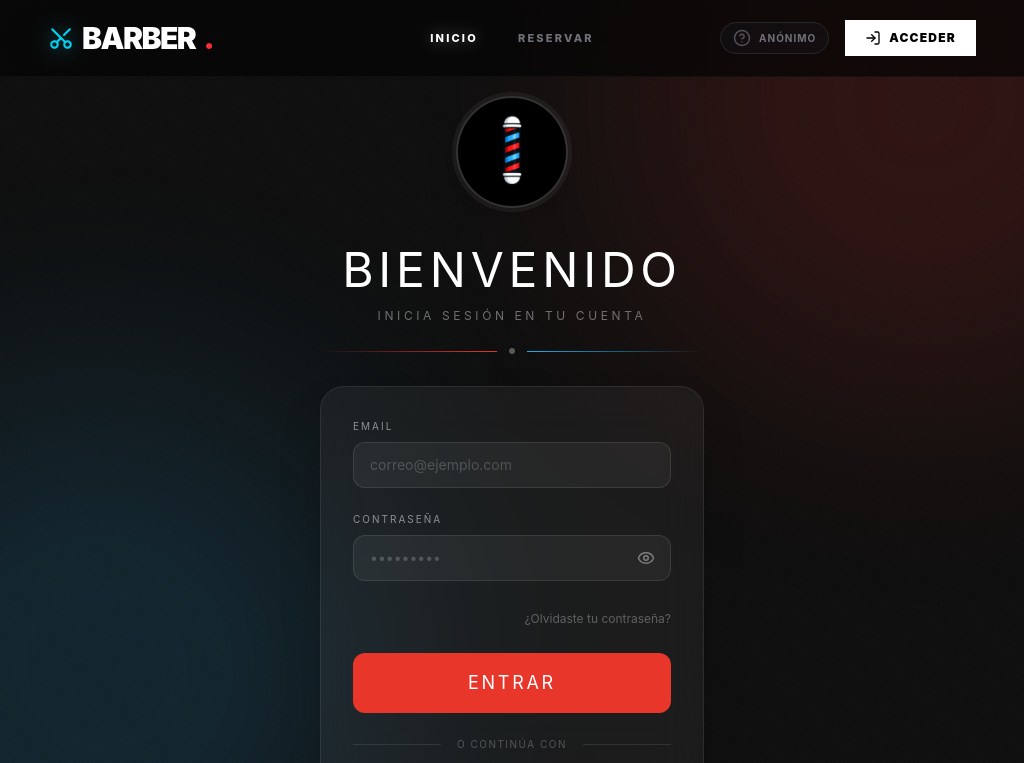
Flujo de login (Login.jsx) › valida el largo mínimo de la contraseña (6 caracteres)
Check: the button "ENTRAR" is shown, box [353,653,671,713]
Type "ana@test.com" into the field with placeholder "correo@ejemplo.com" at [512, 465], box [353,442,671,488]
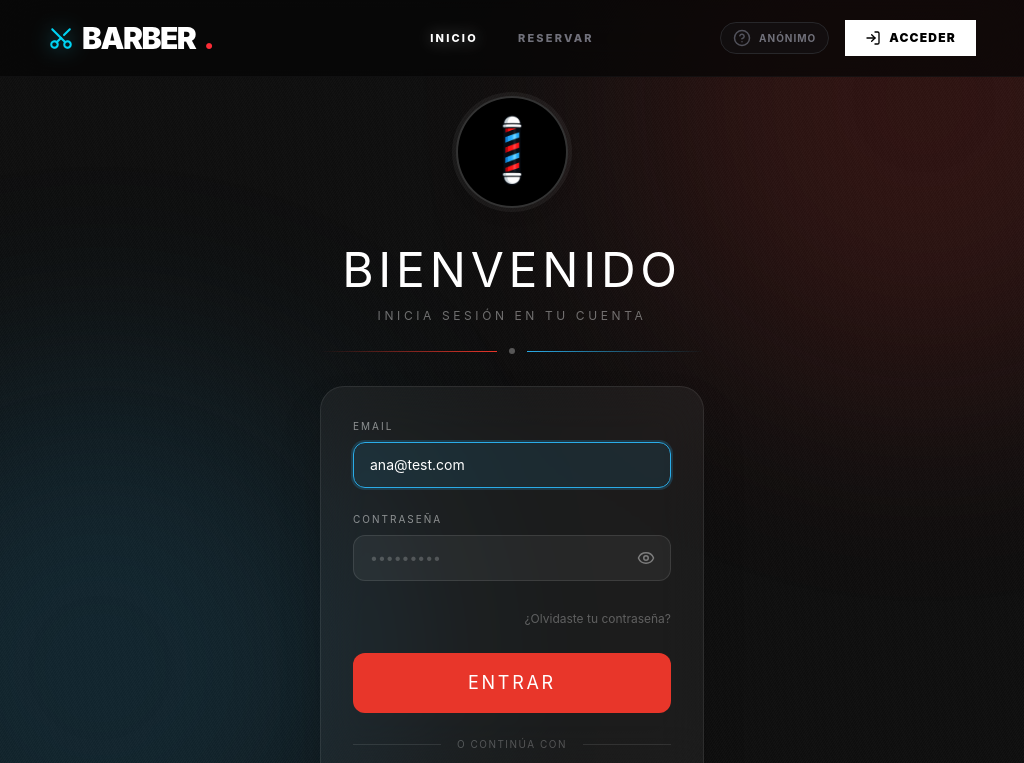
Type "123" into the password field with placeholder "•••••••••" at [512, 558], box [353,535,671,581]
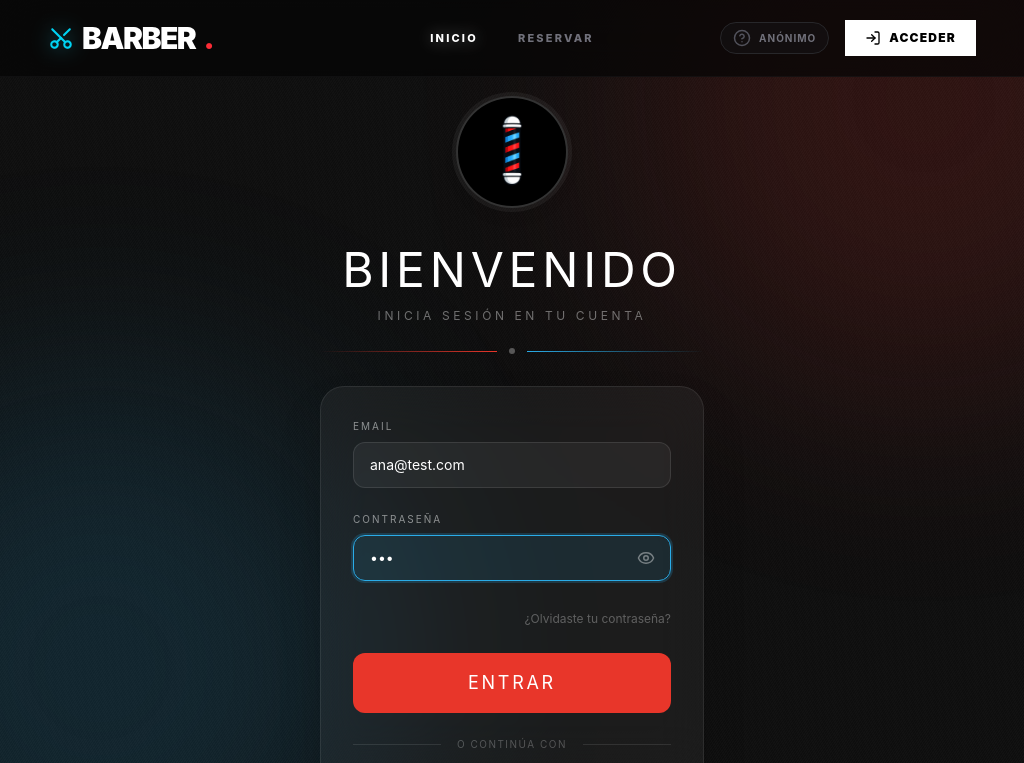
Click the button "ENTRAR" at [512, 683], box [353,653,671,713]
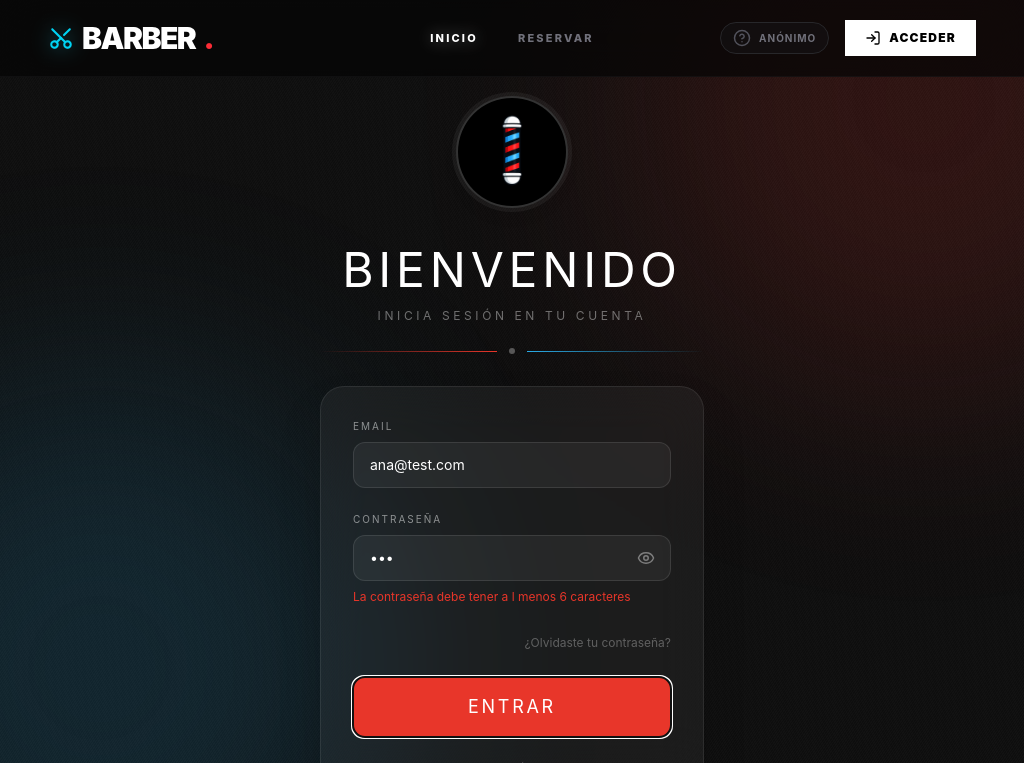
Check: the text "La contraseña debe tener a l menos 6 caracteres" is shown, box [353,589,671,605]
